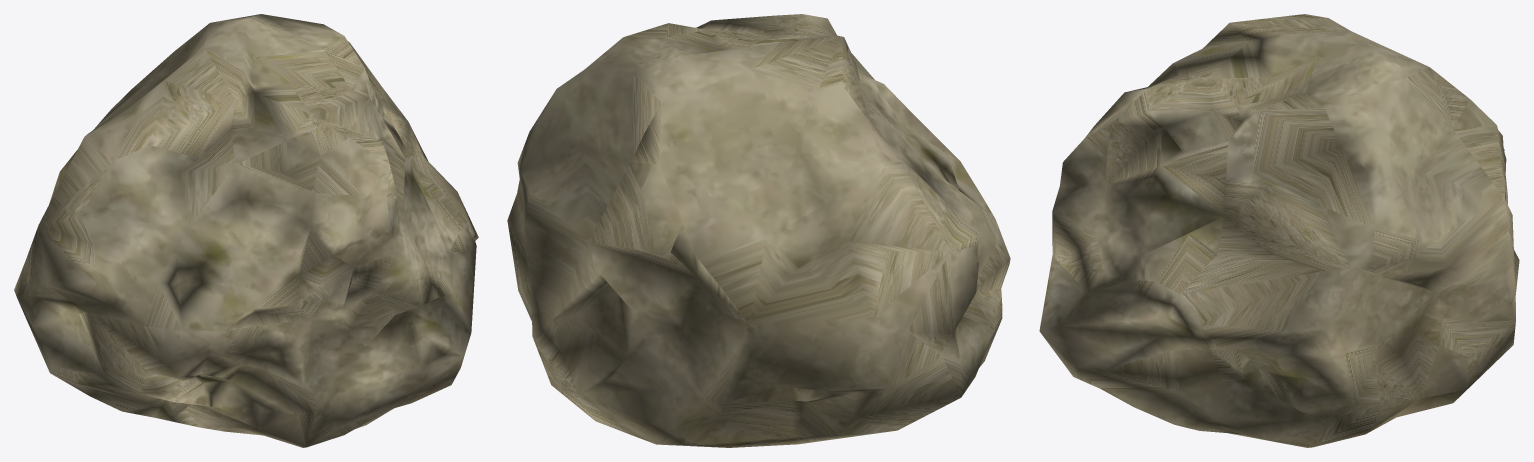
Rendered from boulder.glb.
3 views of the same model, side by side, from view 1: azimuth 30°, elevation 25°; view 2: azimuth 150°, elevation 25°; view 3: azimuth 270°, elevation 25° (orthographic). The views are drawn at different scales.
Parts seen in each view (by area): view 1: tripo_node_eb390534-4659-4f73-a39a-5fb8362b34cb; view 2: tripo_node_eb390534-4659-4f73-a39a-5fb8362b34cb; view 3: tripo_node_eb390534-4659-4f73-a39a-5fb8362b34cb.
Part boxes in pixels (bbox=[...]): tripo_node_eb390534-4659-4f73-a39a-5fb8362b34cb: bbox=[14, 14, 478, 447]; tripo_node_eb390534-4659-4f73-a39a-5fb8362b34cb: bbox=[507, 14, 1010, 447]; tripo_node_eb390534-4659-4f73-a39a-5fb8362b34cb: bbox=[1039, 14, 1519, 447].
Size of the model in its own units: 0.9744 by 0.779 by 0.943.
1 material, 1 textured.
